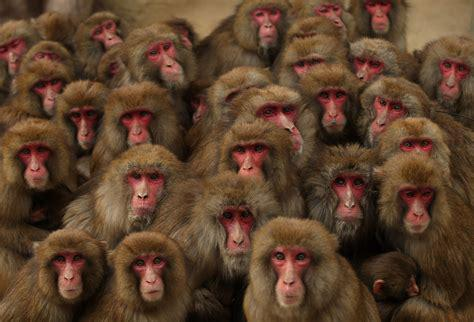monkey: (381, 156, 472, 322), (247, 218, 376, 322), (1, 234, 104, 322), (94, 145, 186, 235), (96, 232, 187, 322), (192, 178, 274, 274), (1, 119, 72, 229), (309, 146, 379, 239), (100, 83, 178, 154), (230, 83, 308, 154), (222, 124, 290, 201), (364, 78, 433, 145), (126, 26, 192, 89), (56, 81, 106, 158), (304, 69, 359, 133), (423, 38, 474, 107), (17, 59, 69, 118), (363, 252, 418, 303), (235, 1, 287, 51), (1, 21, 44, 77), (72, 11, 124, 55), (355, 3, 408, 41), (303, 1, 349, 40)
